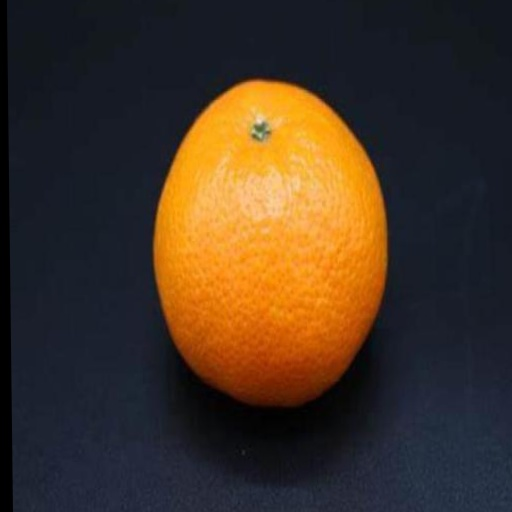fruit: (154, 82, 387, 406)
